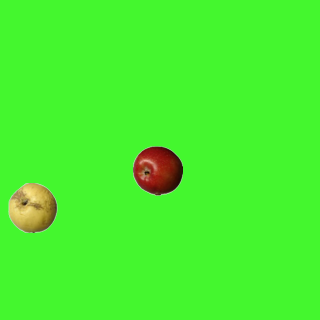Apple Braeburn: (132, 145, 182, 195)
Apple Golden 1: (7, 182, 57, 232)
